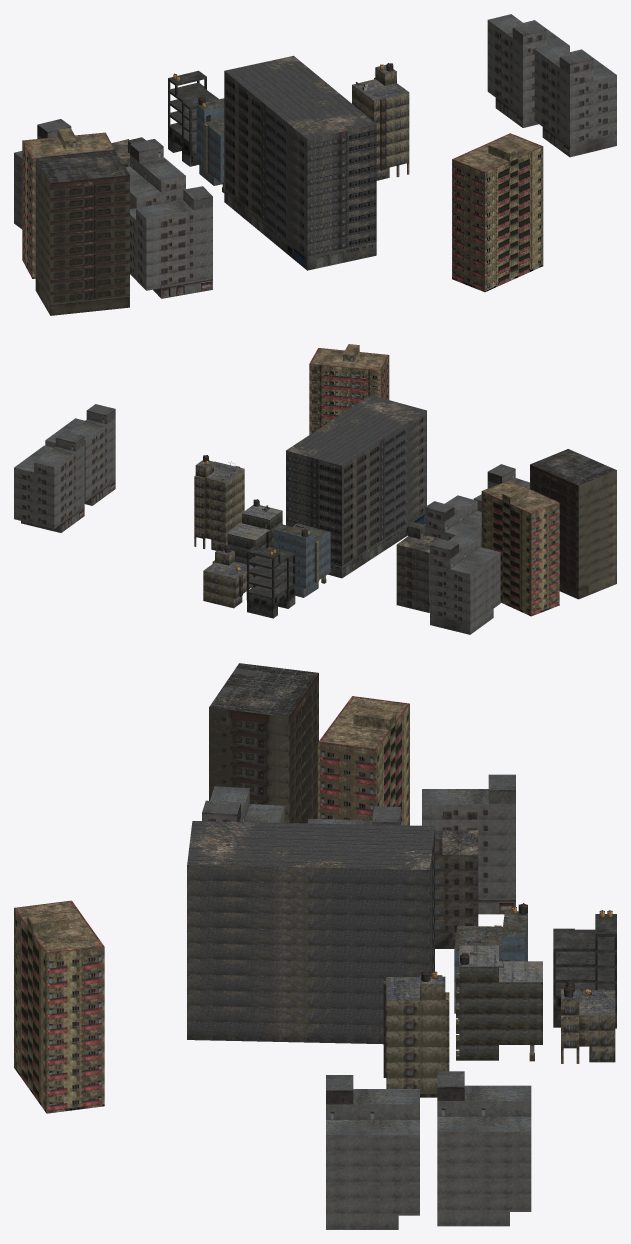
Rendered from BuildingSet_06.FBX.
The picture shows the model from 3 angles, top to bottom: view 1: azimuth 30°, elevation 25°; view 2: azimuth 150°, elevation 25°; view 3: azimuth 270°, elevation 25°; orthographic projection. The views are drawn at different scales.
Visible parts, largest first — view 1: BuildingSet_06; view 2: BuildingSet_06; view 3: BuildingSet_06.
Boxes of the visible parts, x1=… form: BuildingSet_06: x1=14, y1=14, x2=616, y2=315; BuildingSet_06: x1=14, y1=344, x2=616, y2=634; BuildingSet_06: x1=14, y1=663, x2=616, y2=1229.
Bounding box in the file's own units: 27317 × 5798 × 17856.
Materials: 1 (1 with a texture image).
